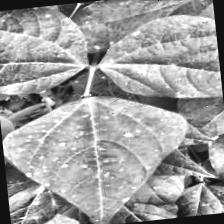Bean Rust: (0, 86, 194, 224), (96, 12, 223, 113), (0, 2, 91, 95), (210, 149, 224, 200)
